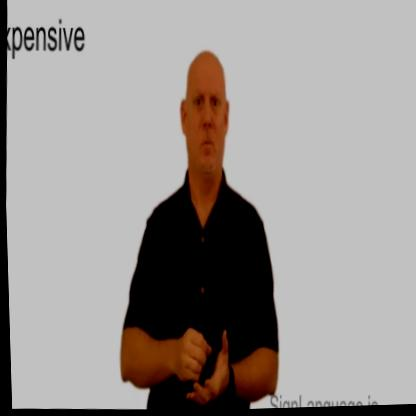Expensive: (108, 45, 290, 414)
